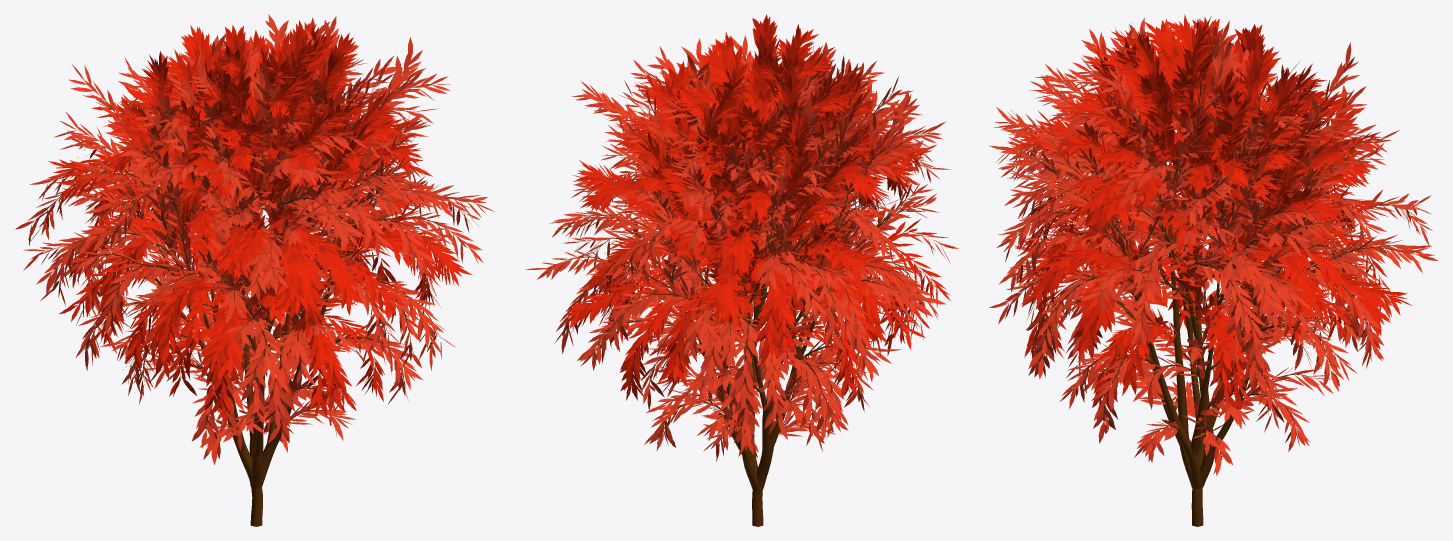
File: Stylised tree.fbx
3 renders of one model, left to right at view 1: azimuth 30°, elevation 25°; view 2: azimuth 150°, elevation 25°; view 3: azimuth 270°, elevation 25°, orthographic. The views are drawn at different scales.
Visible parts, largest first — view 1: leaves, leaves.001, tree; view 2: leaves, leaves.001, tree; view 3: leaves, leaves.001, tree.
Boxes of the visible parts, x1,y1,x2,y2 form: leaves: [15, 14, 494, 464]; leaves.001: [48, 20, 472, 426]; tree: [32, 47, 474, 526]; leaves: [525, 35, 950, 461]; leaves.001: [562, 14, 958, 400]; tree: [549, 55, 928, 526]; leaves: [989, 17, 1437, 475]; leaves.001: [1013, 14, 1412, 419]; tree: [1010, 51, 1417, 526].
Bounding box in the file's own units: 710 × 849 × 685.
